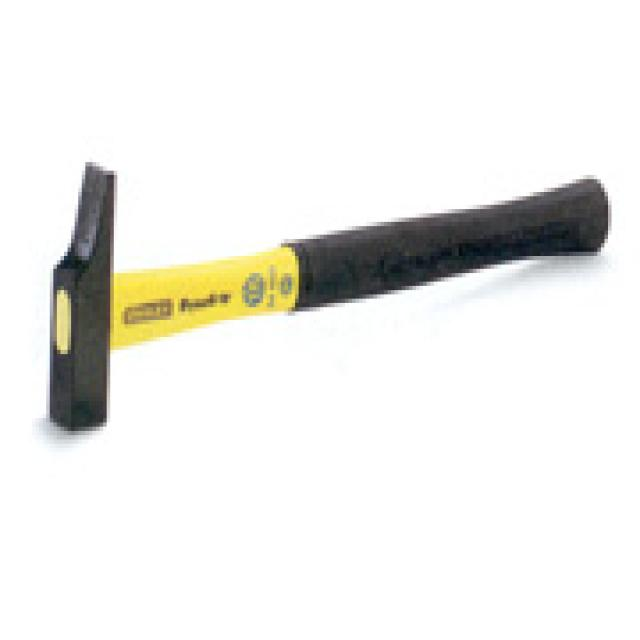hammer: (24, 138, 640, 434)
